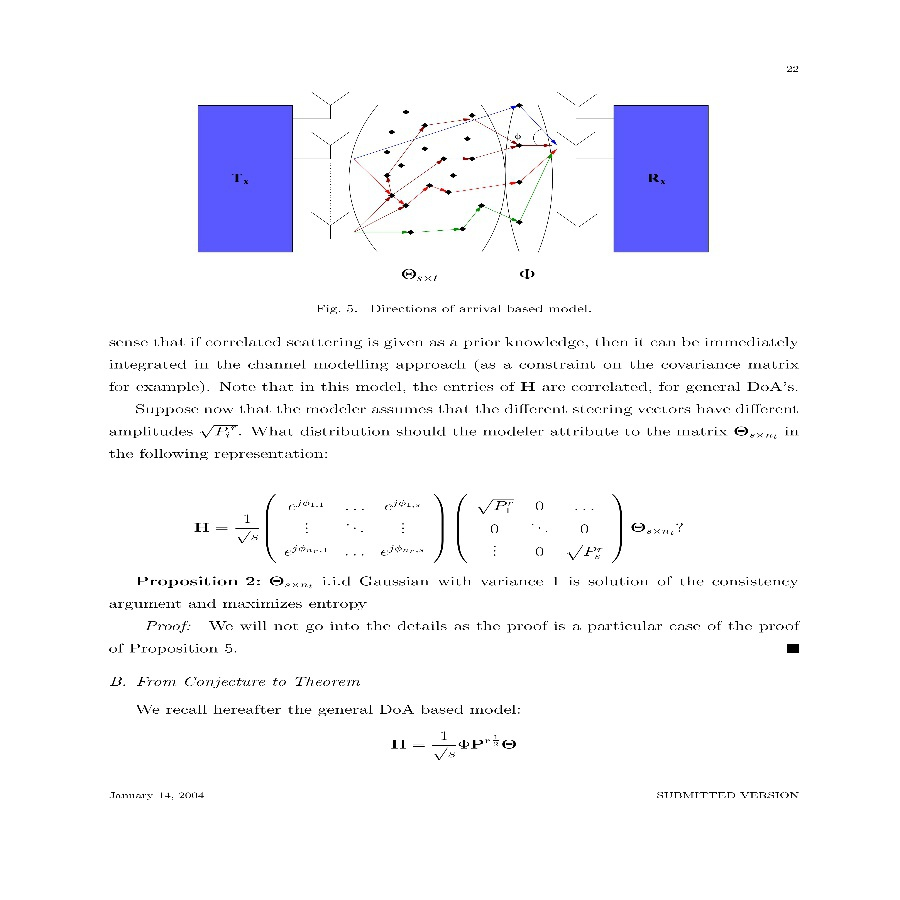eq: (189, 490, 678, 565), (392, 728, 520, 764)
